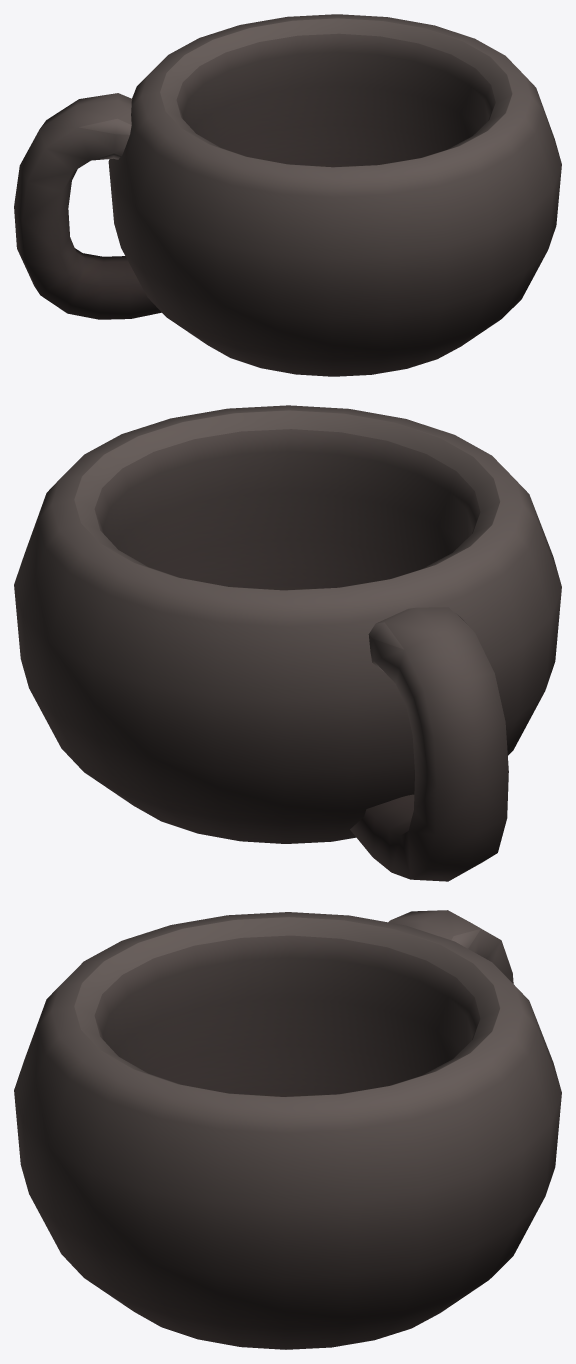
The model's file is Cup_001.glb.
3 views of the same model, one above another, from view 1: azimuth 30°, elevation 25°; view 2: azimuth 150°, elevation 25°; view 3: azimuth 270°, elevation 25° (orthographic). The views are drawn at different scales.
Parts seen in each view (by area): view 1: Cup_001; view 2: Cup_001; view 3: Cup_001.
Boxes of the visible parts, x1,y1,x2,y2 form: Cup_001: [14, 14, 561, 376]; Cup_001: [14, 405, 561, 881]; Cup_001: [14, 910, 561, 1349].
Size of the model in its own units: 0.143 by 0.0737 by 0.1264.
1 material, 1 textured.
